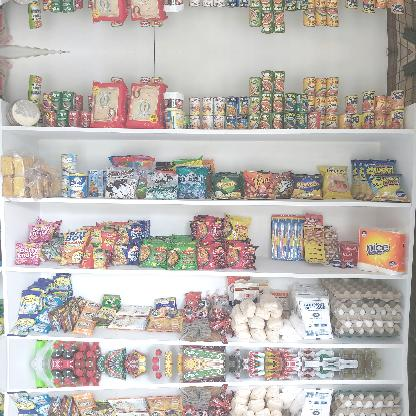Lady-s-Choice: (6, 98, 40, 126), (6, 0, 41, 6)
